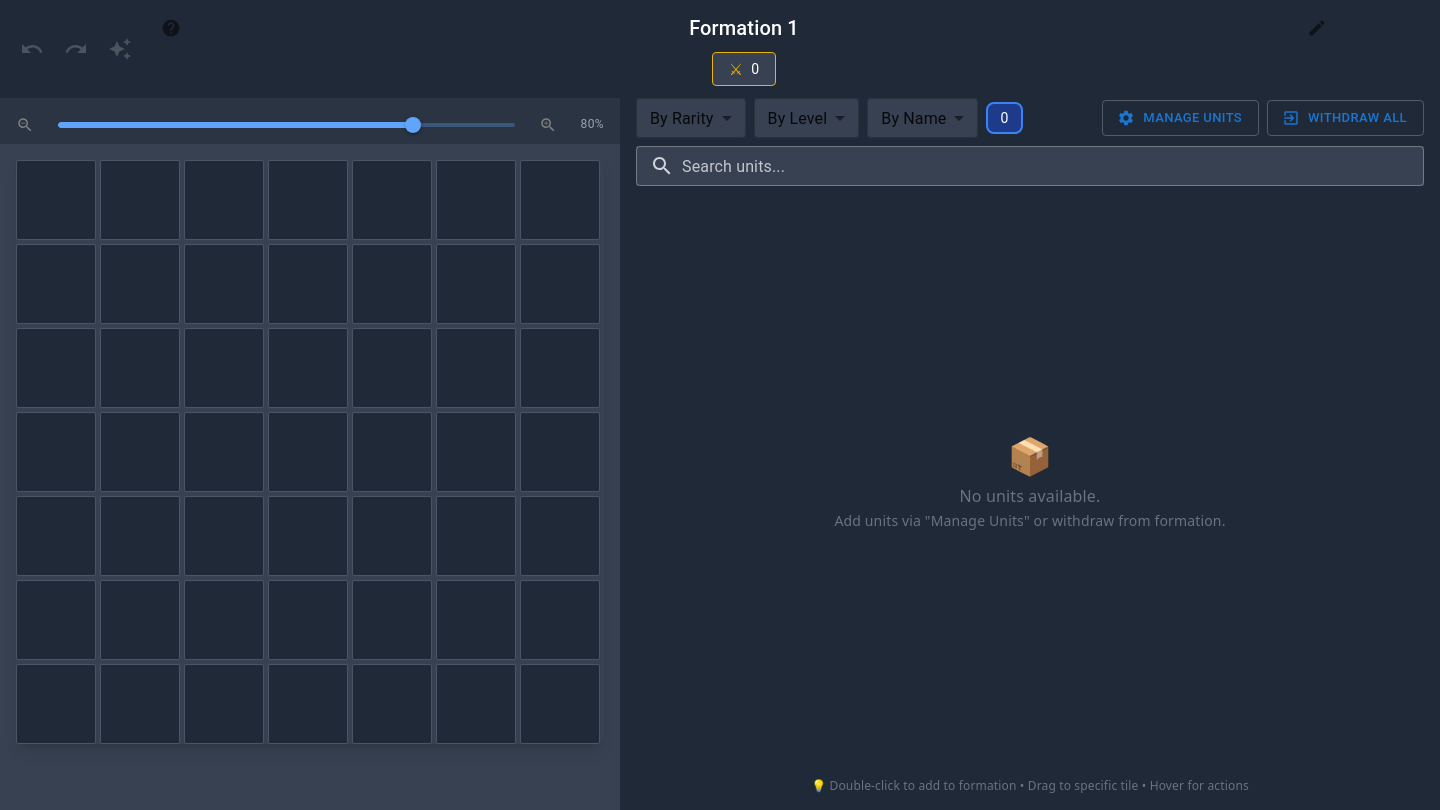
Unit Management Integration Tests › Manage Units Modal › should show add new unit form when clicking add button
The width and height of the screenshot is (1440, 810).
Click the button "Manage Units": [1181, 118] box left=1102, top=100, right=1259, bottom=136
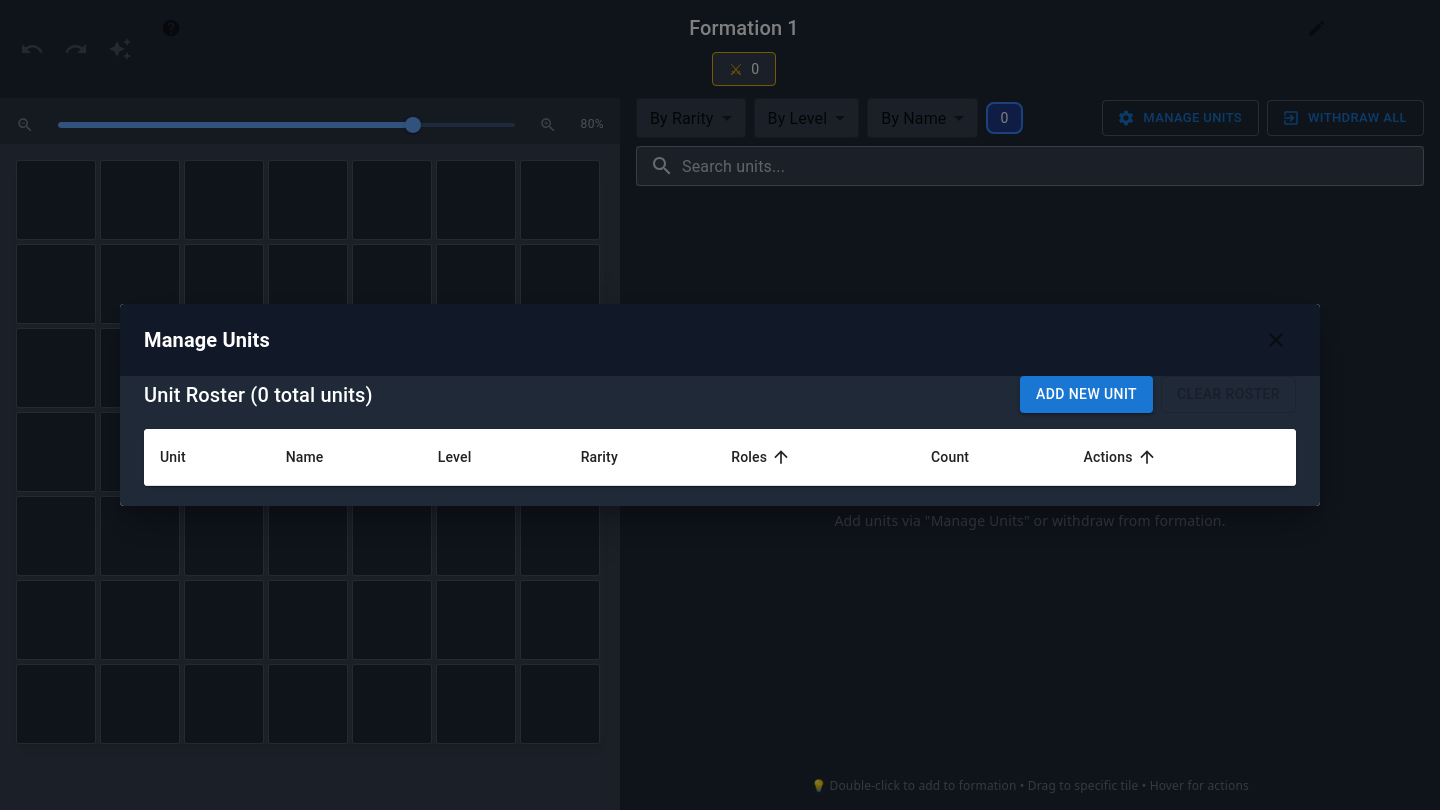
Now the button "Add New Unit" is shown
Click the button "Add New Unit": [1087, 395] box left=1020, top=376, right=1153, bottom=413
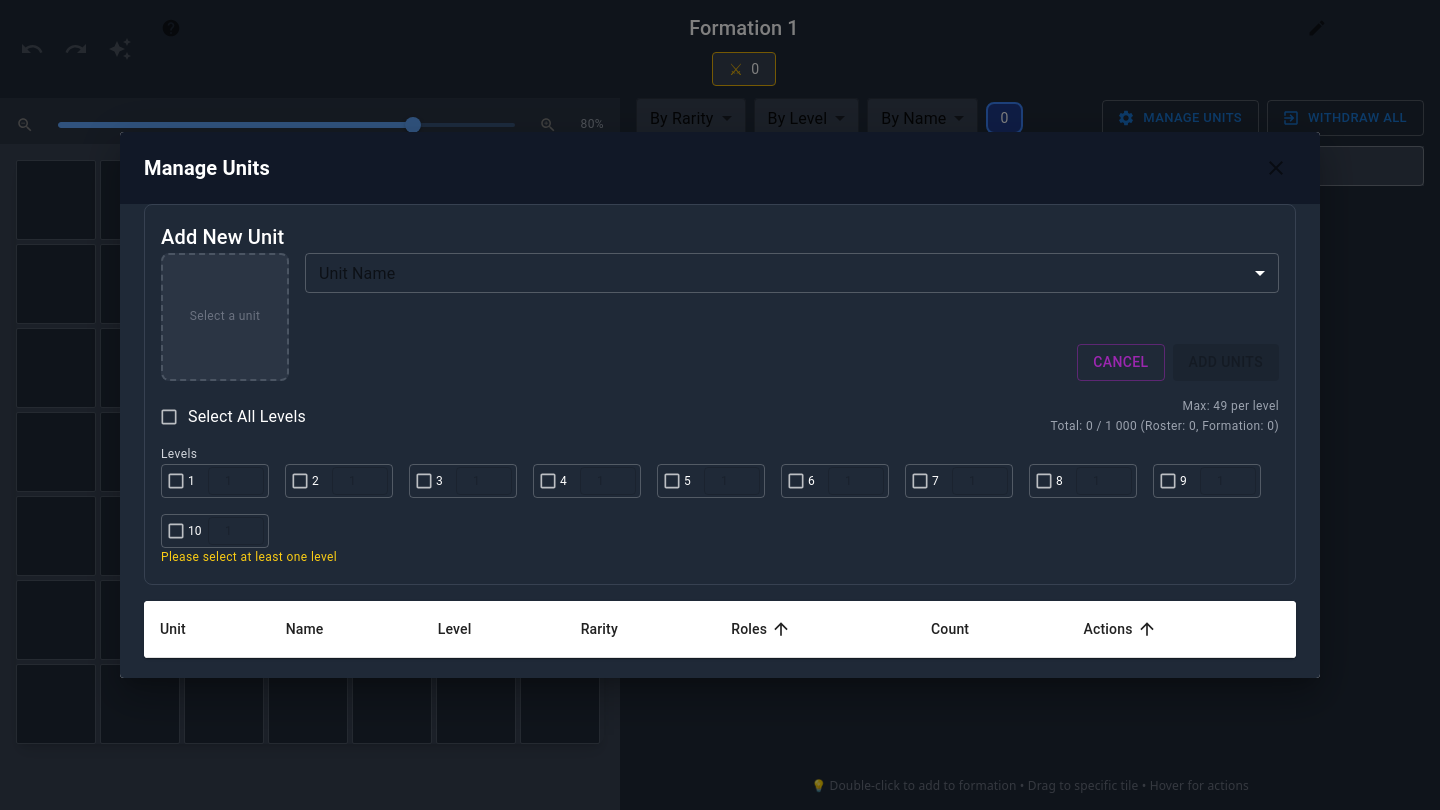
Now the dropdown is shown, box left=305, top=253, right=1279, bottom=293
